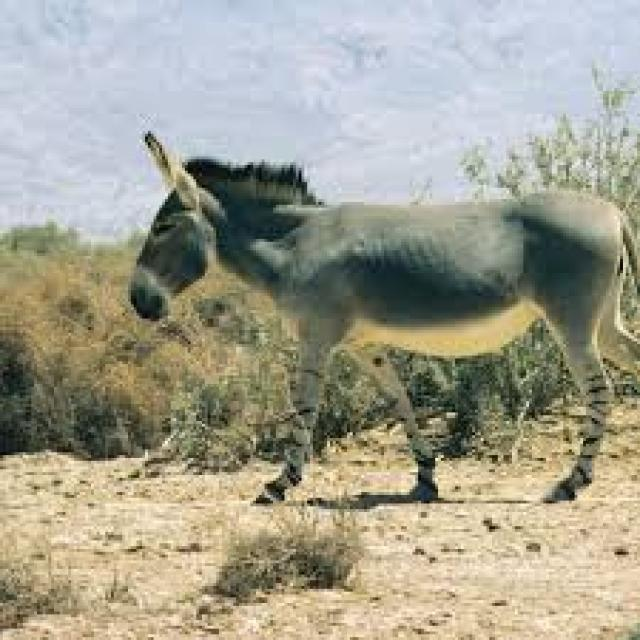Donkey: (111, 101, 633, 536)
